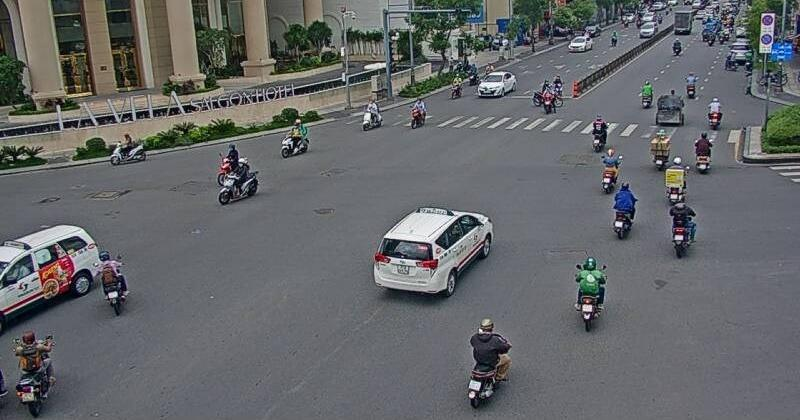xe hoi: (375, 208, 495, 301)
xe may: (462, 316, 516, 410), (10, 329, 56, 415), (573, 253, 608, 332), (93, 252, 132, 315), (218, 156, 258, 204), (668, 192, 697, 258), (610, 179, 637, 239), (278, 117, 308, 159), (108, 132, 146, 165), (663, 156, 688, 205), (600, 147, 622, 194), (648, 127, 670, 169), (692, 132, 714, 173), (590, 113, 606, 153), (362, 97, 380, 131), (410, 98, 426, 130)
